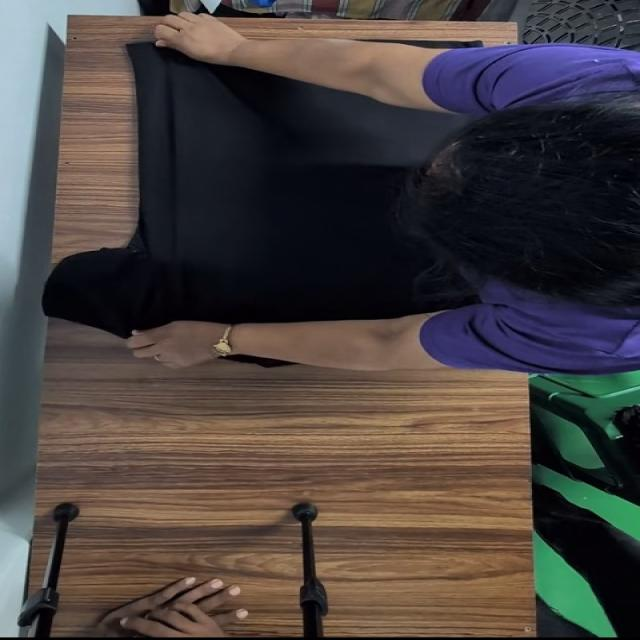new-garment: (41, 43, 467, 337), (408, 40, 481, 49)
